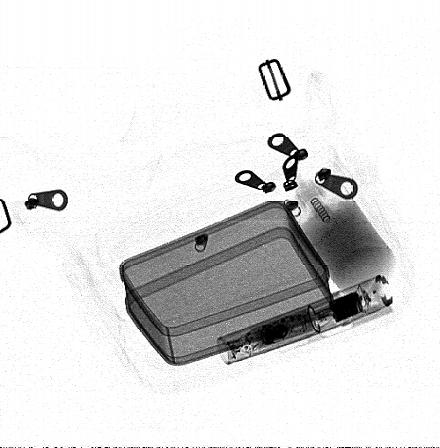Baton: (215, 274, 396, 367)
